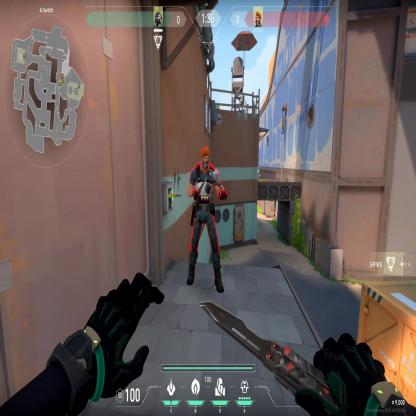enemy: (185, 143, 227, 296)
